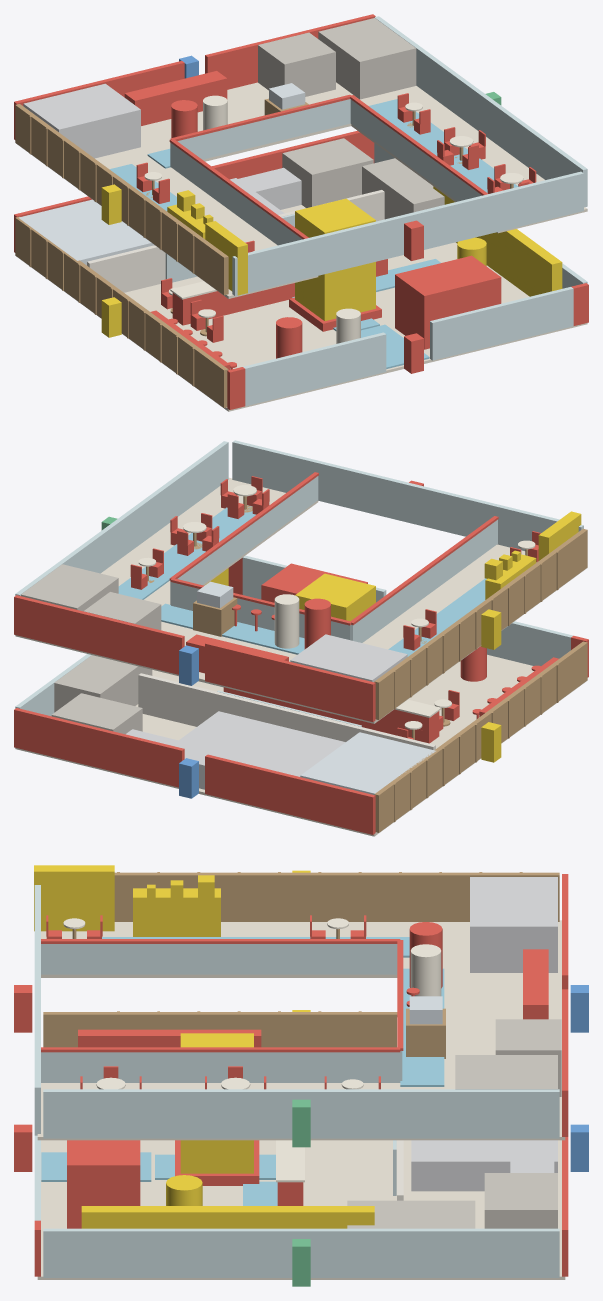
File: all.glb
3 views of the same model, one above another, from view 1: azimuth 30°, elevation 25°; view 2: azimuth 150°, elevation 25°; view 3: azimuth 270°, elevation 25° (orthographic). The views are drawn at different scales.
Parts seen in each view (by area): view 1: window (×5), wall (×5), core (×2), floor, wc (×2), showcase, office, shelf (×2), bigplush, floorN, freezer, circ (×4) (+23 smaller); view 2: wall (×6), window (×5), kitchen, bohwall, core (×2), floor, circ (×3), freezer, wc (×2), railW, floorE, railE (+18 smaller); view 3: window (×4), wall (×5), floor, shelf (×2), railW, railE, floorN, office, core (×2), wc (×2), kitchen, circ (×5) (+21 smaller).
Boxes of the visible parts, <box> form: window (×5): <box>232,16,587,406</box>; wall (×5): <box>14,14,375,407</box>; core (×2): <box>318,18,444,219</box>; floor: <box>15,205,587,411</box>; wc (×2): <box>258,32,373,207</box>; showcase: <box>395,255,501,349</box>; office: <box>23,83,140,158</box>; shelf (×2): <box>205,186,562,296</box>; bigplush: <box>295,198,375,320</box>; floorN: <box>16,82,437,191</box>; freezer: <box>19,199,153,265</box>; circ (×4): <box>109,99,518,368</box>; wall (×6): <box>14,528,587,834</box>; window (×5): <box>15,440,583,716</box>; kitchen: <box>172,711,345,789</box>; bohwall: <box>138,673,435,750</box>; core (×2): <box>21,564,152,712</box>; floor: <box>15,654,587,836</box>; circ (×3): <box>118,505,486,656</box>; freezer: <box>300,732,435,794</box>; wc (×2): <box>51,592,161,734</box>; railW: <box>351,519,497,642</box>; floorE: <box>101,477,318,604</box>; railE: <box>170,476,318,604</box>; window (×4): <box>34,885,559,1277</box>; wall (×5): <box>43,872,568,1276</box>; floor: <box>37,1140,565,1279</box>; shelf (×2): <box>34,865,374,1228</box>; railW: <box>41,944,397,974</box>; railE: <box>41,1052,400,1082</box>; floorN: <box>400,920,565,1140</box>; office: <box>470,877,557,972</box>; core (×2): <box>347,1055,557,1228</box>; wc (×2): <box>484,1019,561,1228</box>; kitchen: <box>411,1140,557,1191</box>; circ (×5): <box>41,937,444,1205</box>.
Size of the model in its own units: 15.3 by 6.1 by 15.7.
